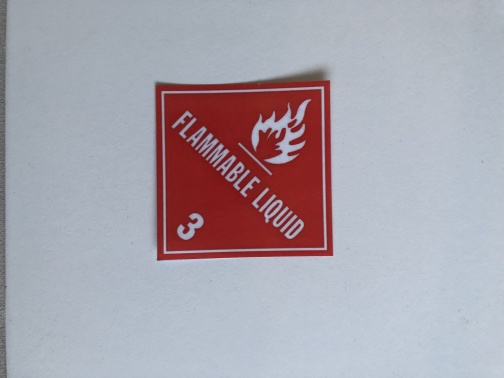FlammableLiquid: (155, 83, 329, 251)
